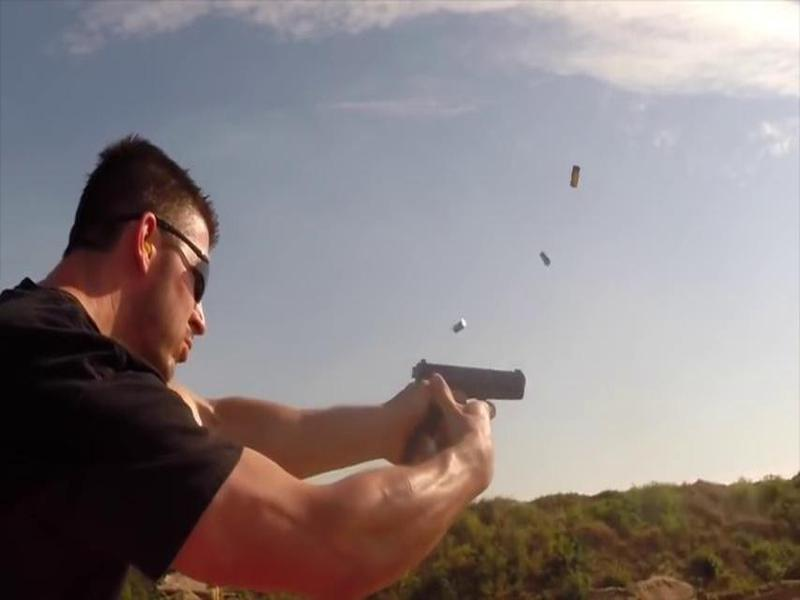Pistola: (384, 343, 534, 433)
